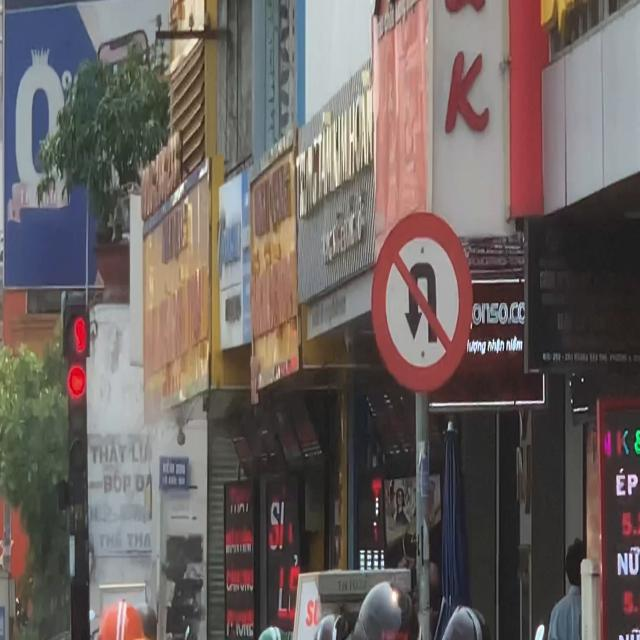Cam quay dau xe: (369, 209, 478, 393)
